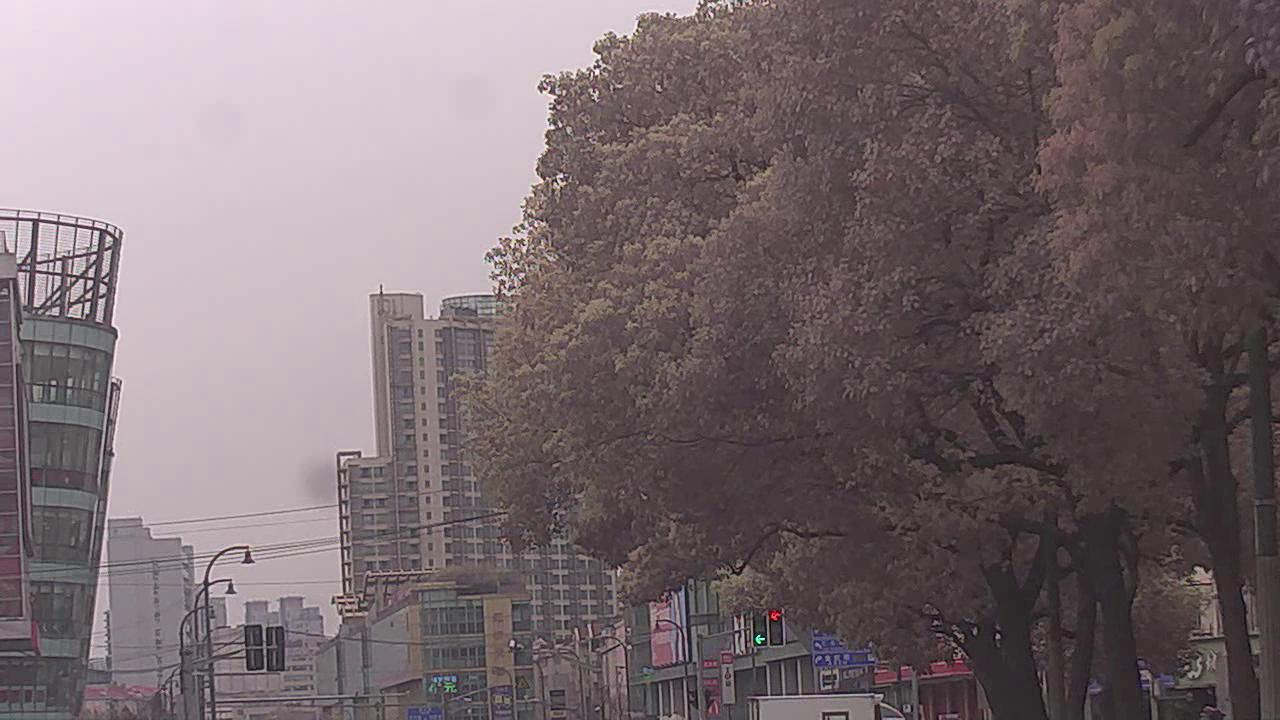traffic_light: (768, 606, 785, 643), (753, 613, 767, 647)
